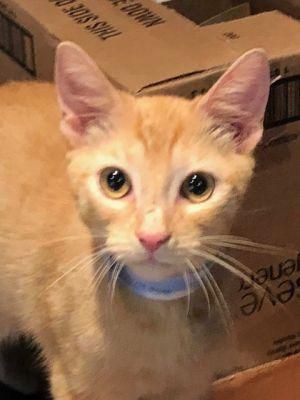bengal: (46, 25, 287, 301)
